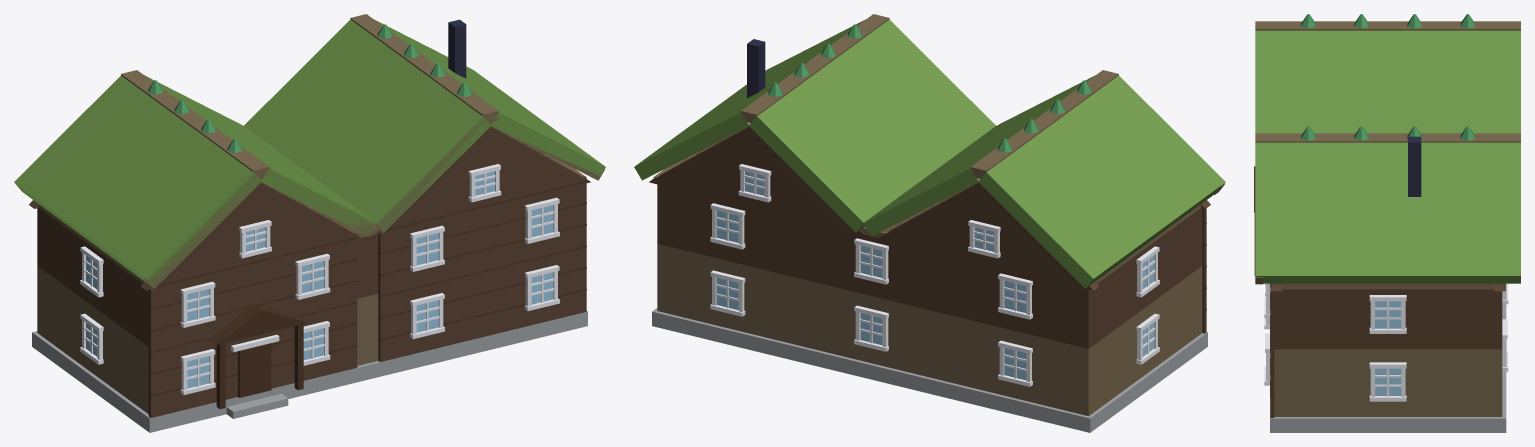
Rendered from house-2x1-2f-turf-a.glb.
The picture shows the model from 3 angles, left to right: view 1: azimuth 30°, elevation 25°; view 2: azimuth 150°, elevation 25°; view 3: azimuth 270°, elevation 25°; orthographic projection.
Parts seen in each view (by area): view 1: house-2x1-2f-turf-a; view 2: house-2x1-2f-turf-a; view 3: house-2x1-2f-turf-a.
Boxes of the visible parts, box(x1,y1,x2,y2) form: house-2x1-2f-turf-a: box(14, 14, 605, 432); house-2x1-2f-turf-a: box(634, 14, 1225, 432); house-2x1-2f-turf-a: box(1254, 14, 1520, 432).
Bounding box in the file's own units: 2 × 1.1 × 1.
Materials: 1 (1 with a texture image).
